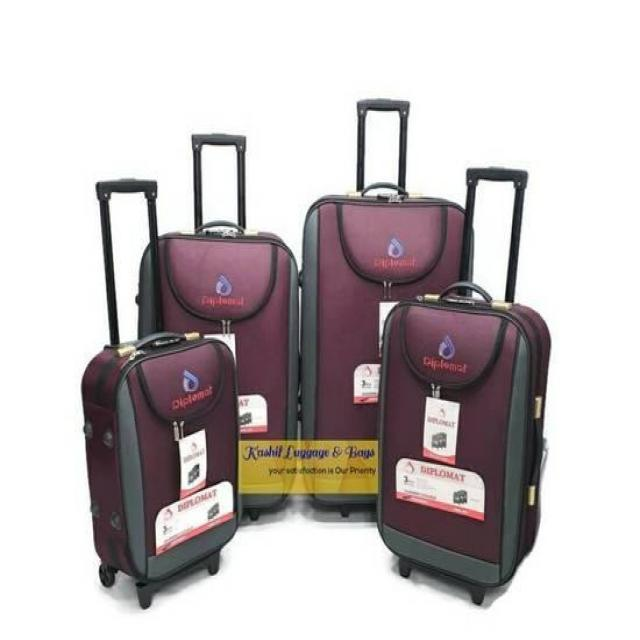luggage: (298, 189, 476, 514), (372, 289, 553, 592), (134, 223, 302, 519), (78, 326, 243, 592)
